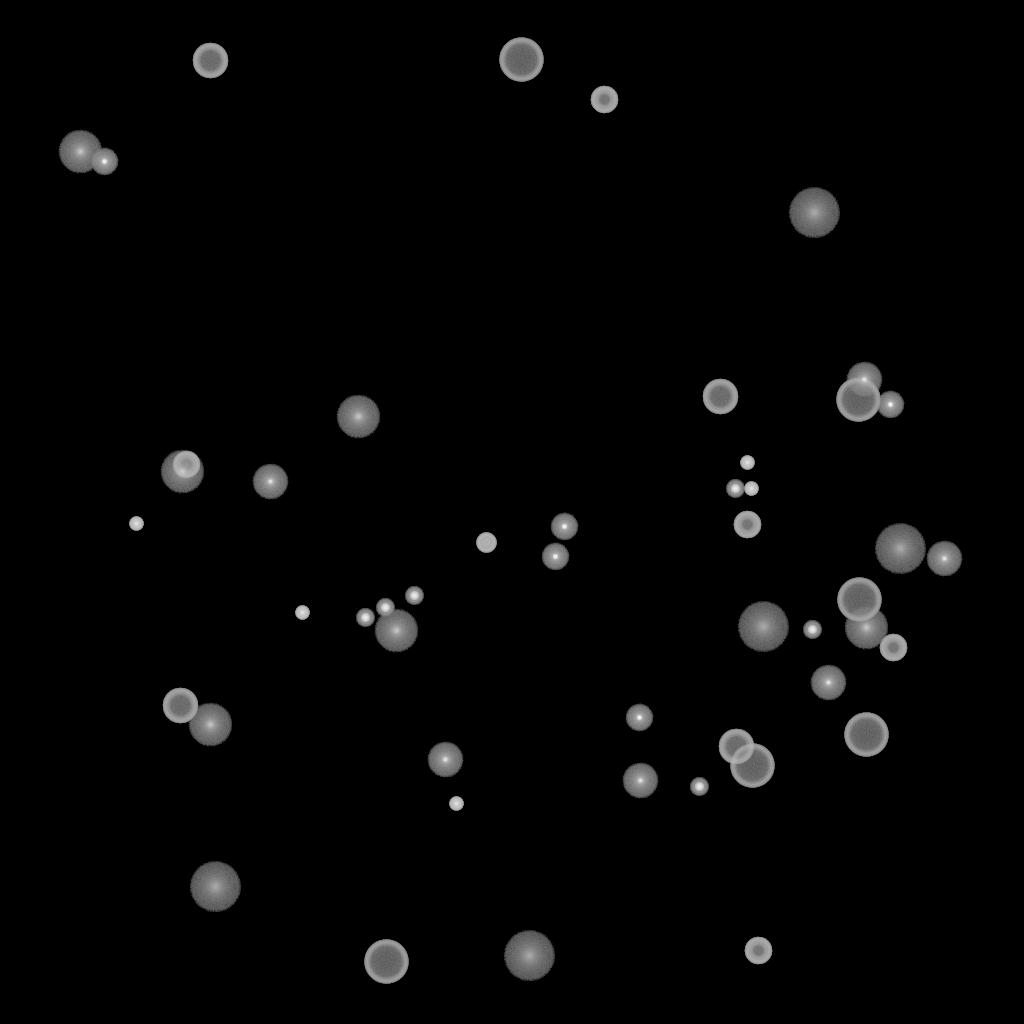depth:-10: (625, 704, 653, 732), (876, 391, 904, 419), (90, 148, 118, 176), (550, 513, 578, 541), (541, 543, 569, 571)
depth:-20: (726, 480, 744, 498), (405, 587, 423, 605), (376, 599, 394, 617), (690, 778, 708, 796), (803, 621, 821, 639), (356, 609, 374, 627)
depth:-30: (449, 797, 463, 811), (295, 606, 309, 620), (129, 517, 143, 531), (744, 482, 758, 496), (740, 456, 754, 470)
depth:-40: (476, 533, 496, 553)
depth:-50: (590, 86, 618, 114), (744, 937, 772, 965), (172, 451, 200, 479), (733, 511, 761, 539), (879, 634, 907, 662)
depth:-60: (718, 729, 754, 765), (162, 688, 198, 724), (192, 43, 228, 79), (702, 379, 738, 415)
depth:-70: (844, 713, 888, 757), (836, 378, 880, 422), (730, 744, 774, 788), (364, 940, 408, 984), (499, 38, 543, 82), (837, 578, 881, 622)
depth:0: (926, 541, 962, 577), (810, 665, 846, 701), (252, 464, 288, 500), (622, 763, 658, 799), (846, 362, 882, 398), (427, 742, 463, 778)
depth:10: (188, 703, 232, 747), (160, 450, 204, 494), (374, 609, 418, 653), (844, 606, 888, 650), (58, 130, 102, 174), (336, 395, 380, 439)
depth:20: (503, 931, 555, 981), (788, 188, 840, 238), (737, 602, 789, 652), (874, 524, 926, 574), (189, 862, 241, 912)
